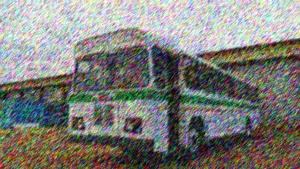bus: (69, 27, 262, 159)
